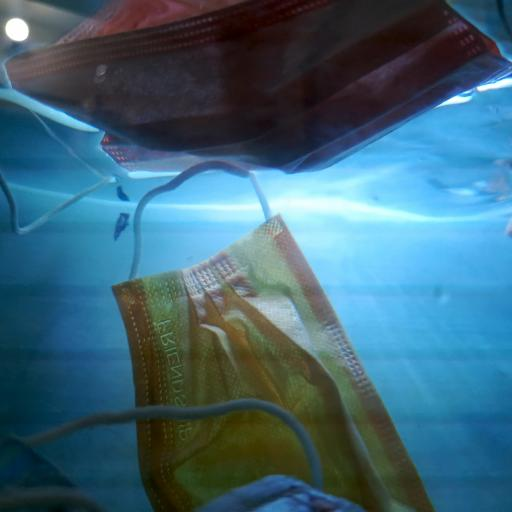mask: (107, 160, 434, 512), (3, 0, 512, 178), (3, 393, 368, 512)
